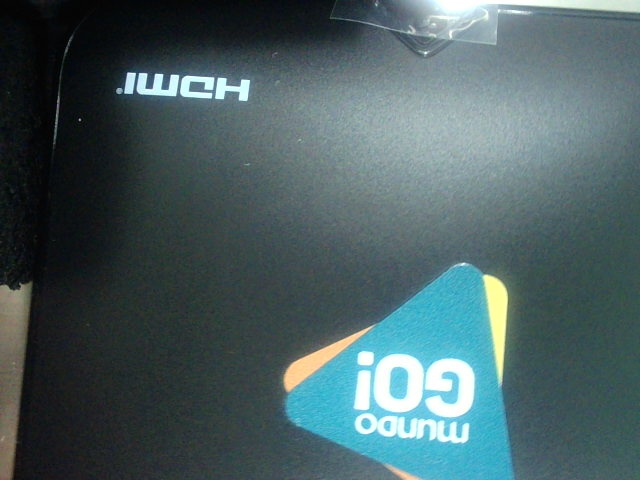AP_IPGMundoGO: (269, 257, 538, 478)
